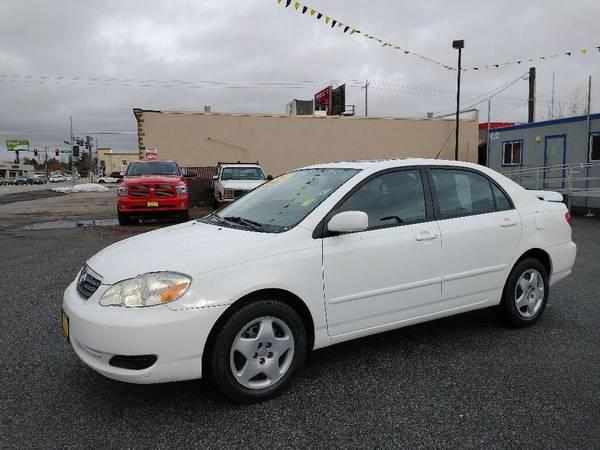Front_Bumper: (61, 279, 226, 384)
Front_Fender: (169, 246, 330, 349)
Front_Left_Door: (319, 221, 444, 345)
Front_Left_Window: (322, 168, 435, 240)
Front_Windshield: (193, 170, 354, 236)
Grille: (74, 265, 101, 307)
Hood: (80, 221, 323, 287)
Left_Headlight: (96, 271, 189, 310)
Rear_Bumper: (545, 242, 579, 285)
Rear_Fender: (517, 201, 572, 259)
Rear_Left_Door: (435, 210, 522, 314)
Rear_Left_Window: (427, 165, 515, 219)
Roof: (286, 155, 566, 236)
Wheel: (209, 298, 312, 400), (507, 259, 553, 324)
